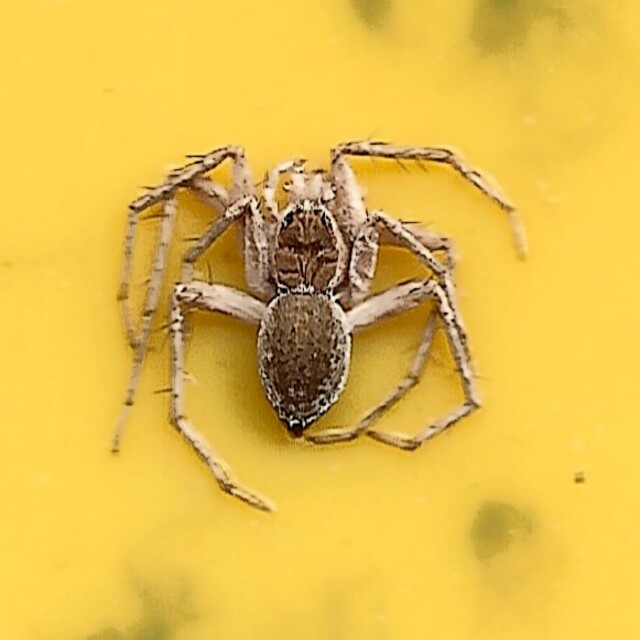Araneae: (110, 135, 530, 505)
